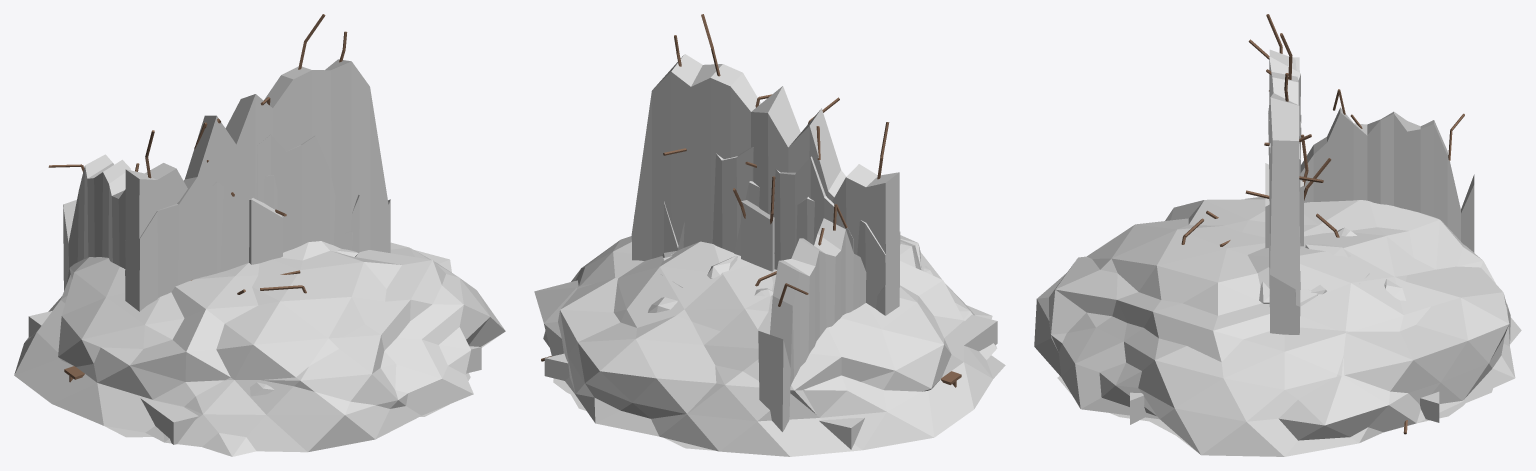
Rendered from ruin_kit.glb.
3 renders of one model, left to right at view 1: azimuth 30°, elevation 25°; view 2: azimuth 150°, elevation 25°; view 3: azimuth 270°, elevation 25°, orthographic. The views are drawn at different scales.
Visible parts, largest first — view 1: mound_a, mound_b, wall_c, corner_a, wall_a, slab_a, column_a; view 2: mound_b, mound_a, wall_c, corner_a, wall_a, slab_a, column_a, wall_b; view 3: mound_a, mound_b, corner_a, wall_c, wall_a, column_a, slab_a.
Boxes of the visible parts, x1,y1,x2,y2 form: mound_a: (58,242,505,452); mound_b: (14,241,470,456); wall_c: (125,14,390,311); corner_a: (48,122,359,290); wall_a: (125,130,390,310); slab_a: (28,311,481,444); column_a: (249,198,286,264); mound_b: (534,235,1005,456); mound_a: (543,236,997,450); wall_c: (631,14,900,314); corner_a: (663,126,866,431); wall_a: (634,122,899,306); slab_a: (541,315,997,449); column_a: (733,176,775,271); wall_b: (876,261,898,315); mound_a: (1034,197,1521,456); mound_b: (1049,199,1515,440); corner_a: (1268,89,1474,289); wall_c: (1248,33,1301,334); wall_a: (1264,14,1311,334); column_a: (1245,134,1331,248); slab_a: (1130,391,1439,434).
Bounding box in the file's own units: 6.66 × 5.09 × 6.3.
